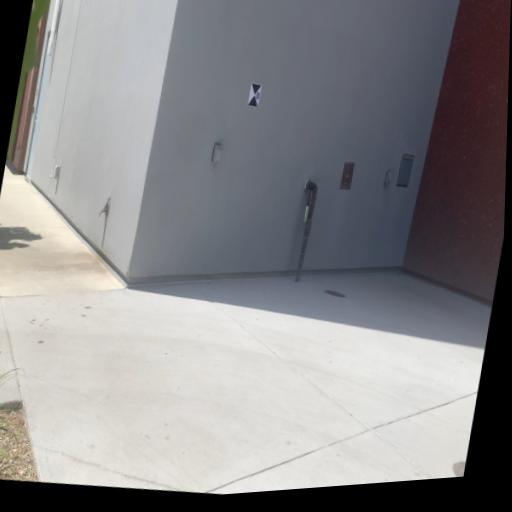target8: (247, 82, 262, 109)
